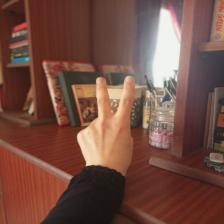two: (66, 72, 148, 185)
